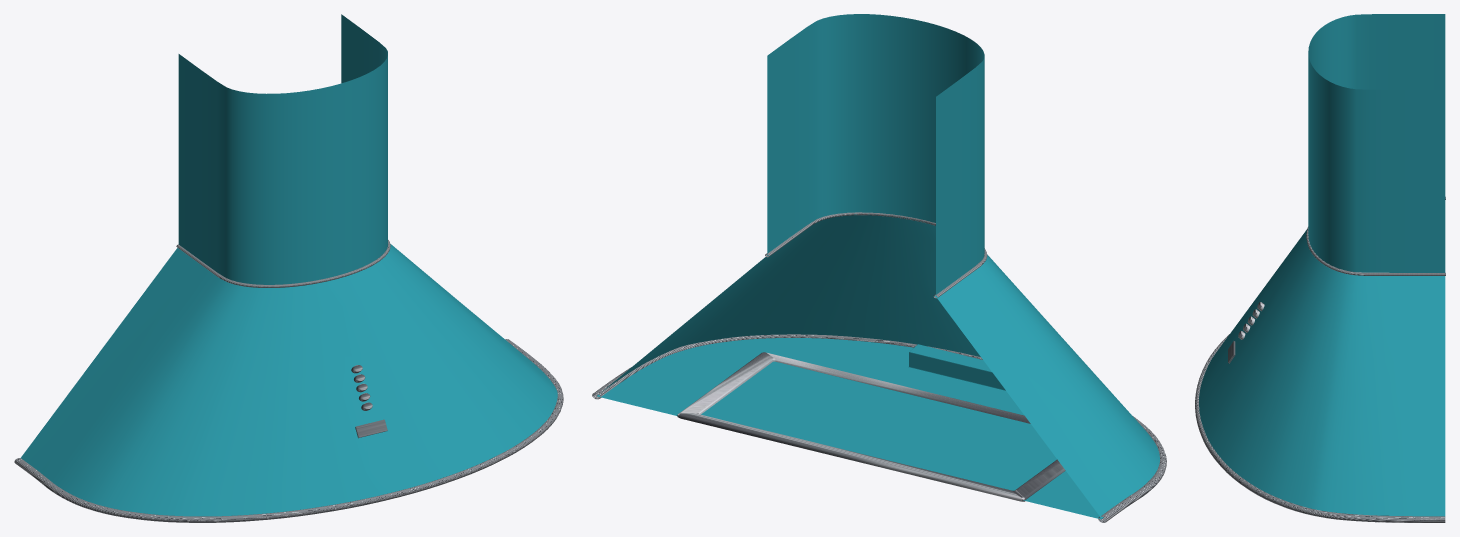
File: Campana.obj
The picture shows the model from 3 angles, left to right: view 1: azimuth 30°, elevation 25°; view 2: azimuth 150°, elevation 25°; view 3: azimuth 270°, elevation 25°; orthographic projection. The views are drawn at different scales.
Visible parts, largest first — view 1: polySurface149; view 2: polySurface149; view 3: polySurface149.
Part boxes in pixels (bbox=[...]): polySurface149: bbox=[14, 14, 563, 522]; polySurface149: bbox=[592, 14, 1166, 522]; polySurface149: bbox=[1195, 14, 1445, 522].
Size of the model in its own units: 1.89 by 1.35 by 0.8599.
3 materials, 3 textured.
